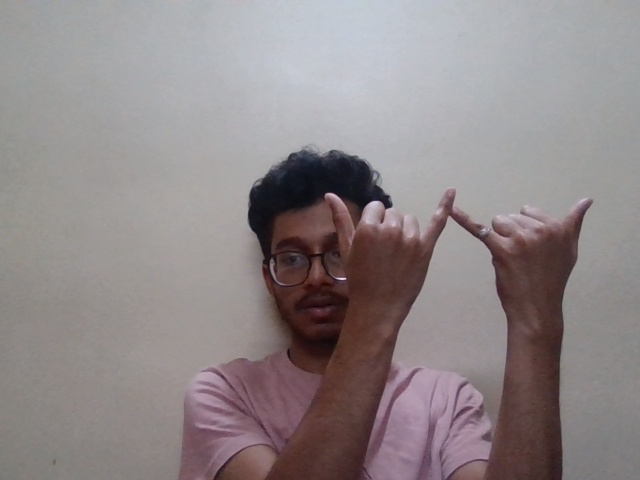today: (316, 182, 612, 336)
